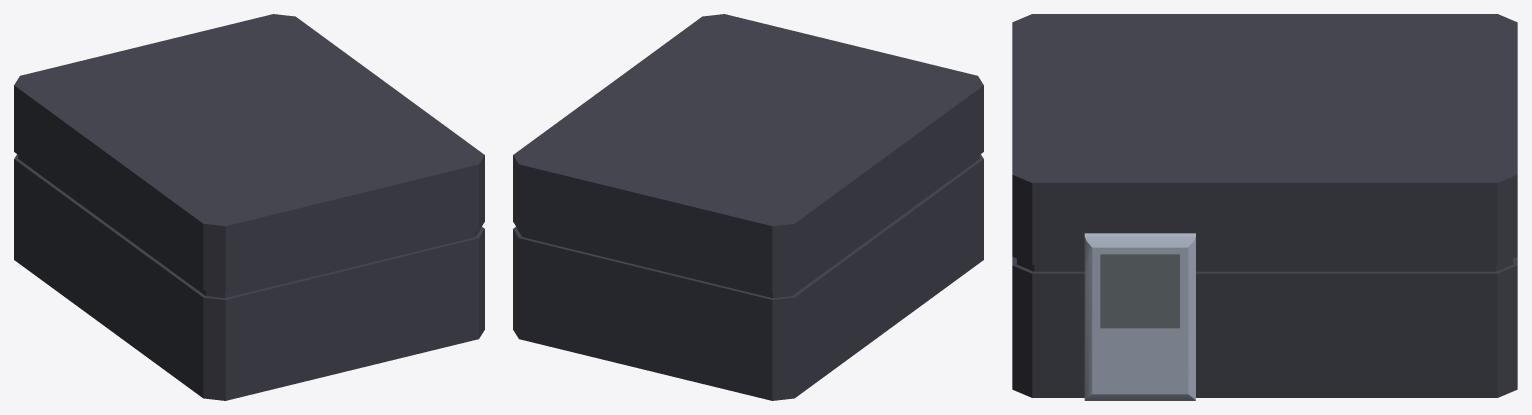
3 views of the same model, side by side, from view 1: azimuth 30°, elevation 25°; view 2: azimuth 150°, elevation 25°; view 3: azimuth 270°, elevation 25° (orthographic). The views are drawn at different scales.
Visible parts, largest first — view 1: pasted__pCube107; view 2: pasted__pCube107; view 3: pasted__pCube107.
Part boxes in pixels (x1,y1,x2,y2): pasted__pCube107: [14, 14, 484, 400]; pasted__pCube107: [513, 14, 983, 400]; pasted__pCube107: [1012, 14, 1517, 400].
Bounding box in the file's own units: 5.19 × 2.99 × 6.37.
